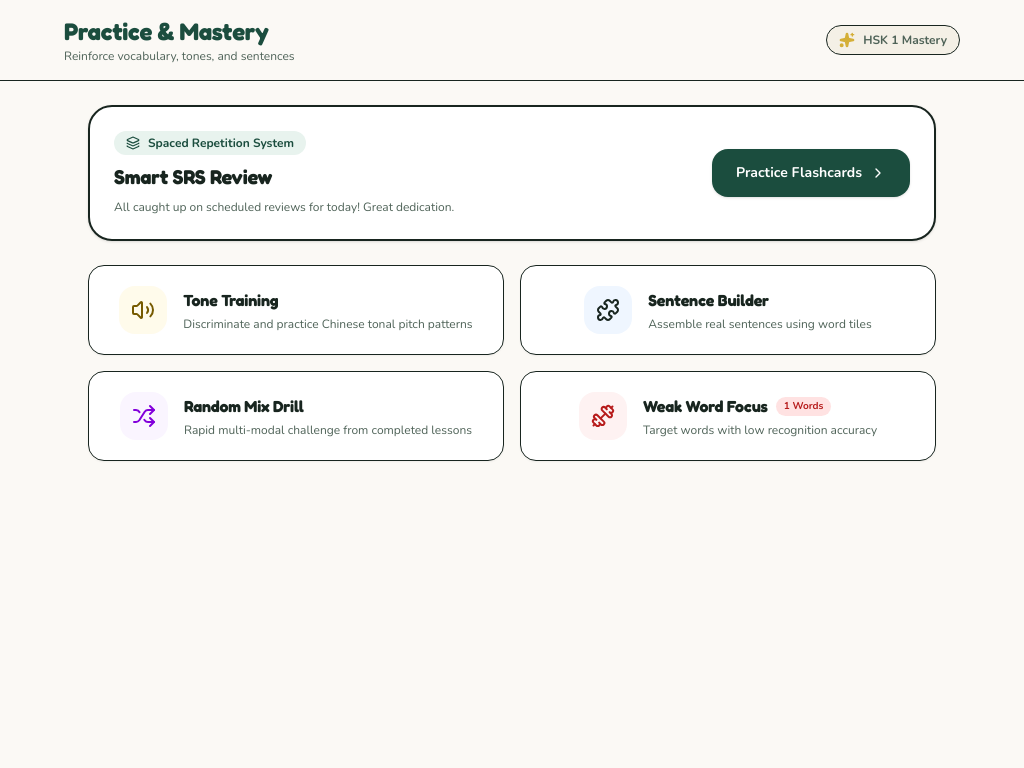
Test: PracticePage Drills Coverage › starts Weak Words drill and exits back to menu
The image size is (1024, 768).
Click the heading "Weak Word Focus" at x=705, y=406, box [643, 394, 768, 418]
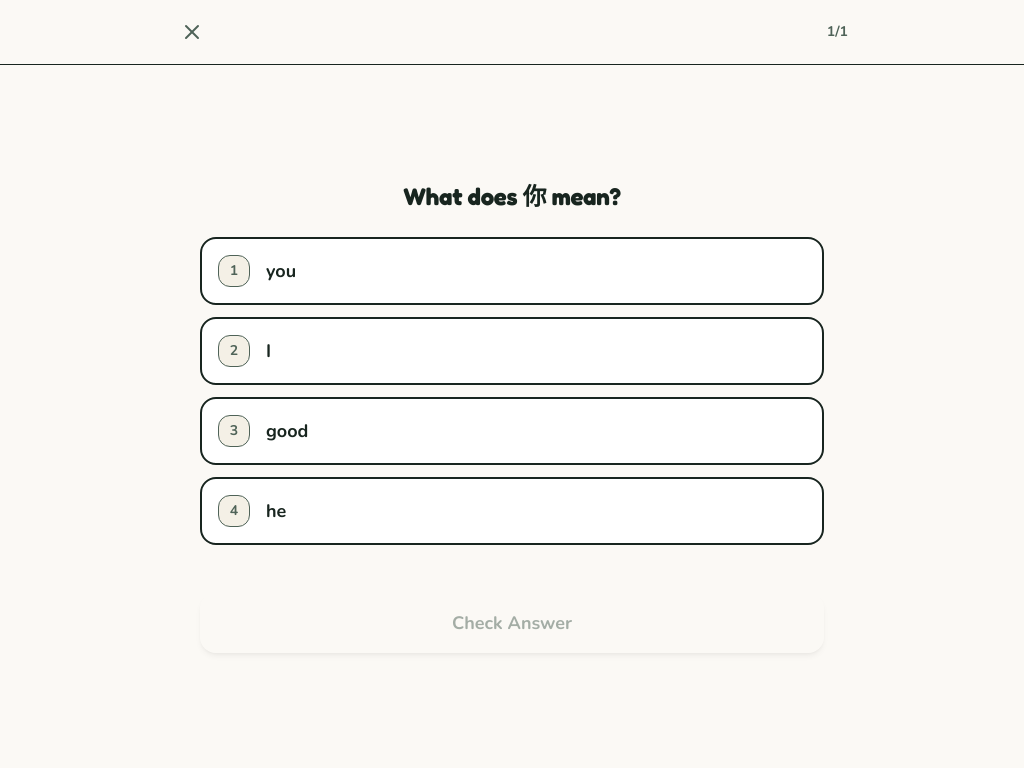
Expected: the button named "Exit exercise" is shown, [176, 16, 208, 48]
